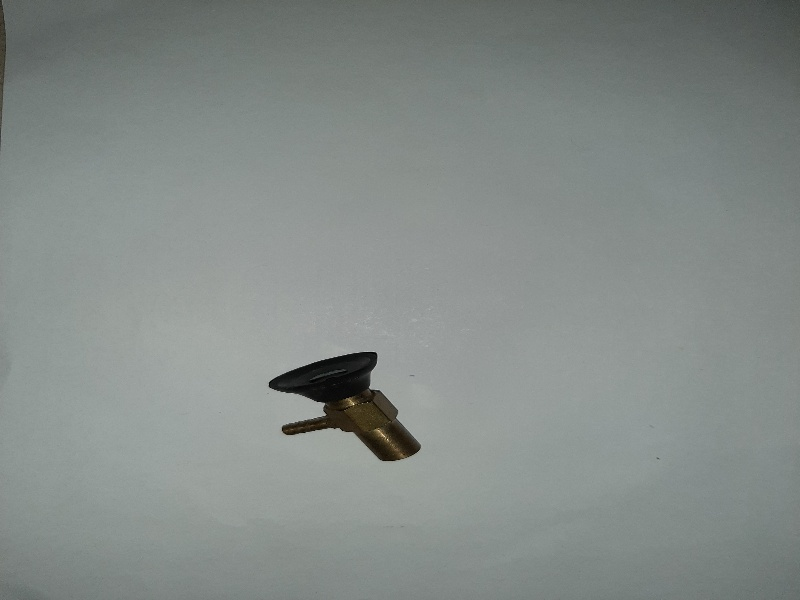Joint Hold: (261, 344, 424, 467)
